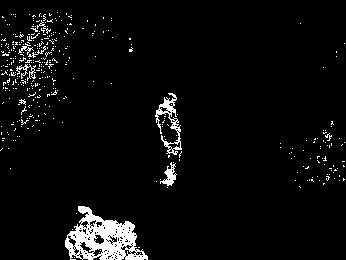person: (153, 89, 183, 189)
